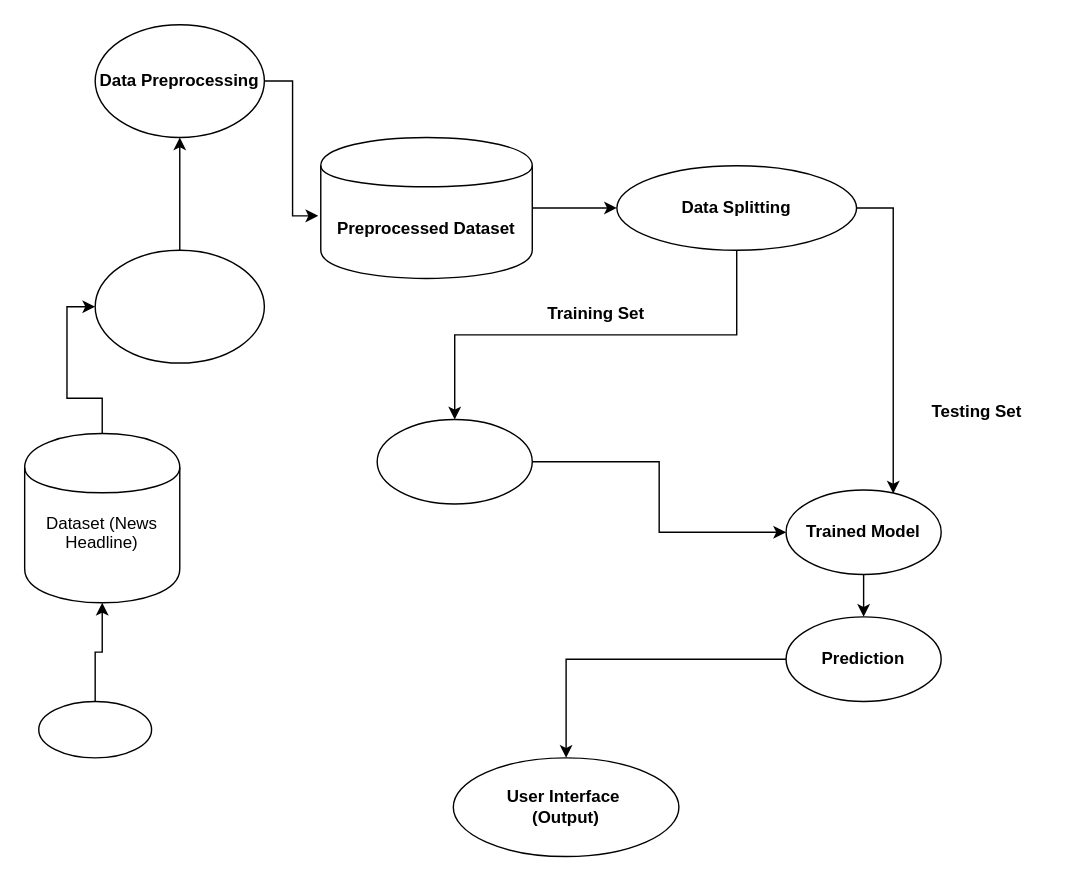
The diagram is 1065 pixels wide and 881 high, and some of its shapes have lost their labels. The shapes that lost their labels are listed below. From the top down, each one's centre as x and y in pixels, then its label:
(x=179, y=306): Data Labeling
(x=454, y=461): LSTM Model
(x=94, y=729): User Input
